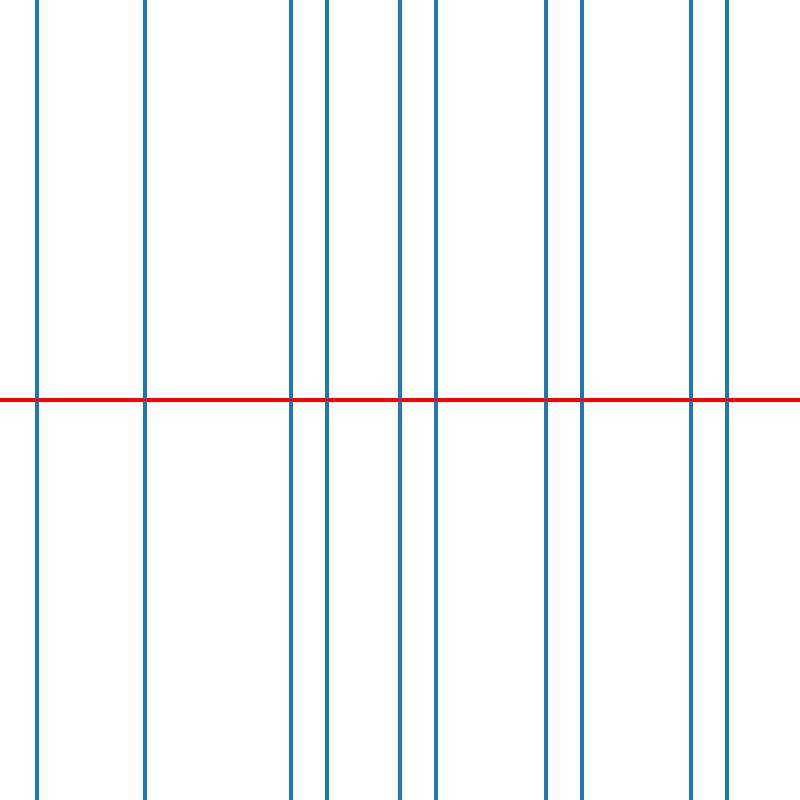root: (432, 396, 440, 404), (541, 396, 549, 404), (32, 396, 40, 404), (141, 396, 149, 404), (396, 396, 403, 404), (323, 396, 330, 404), (287, 396, 294, 404), (723, 396, 730, 404), (578, 396, 585, 404), (687, 396, 694, 404)
